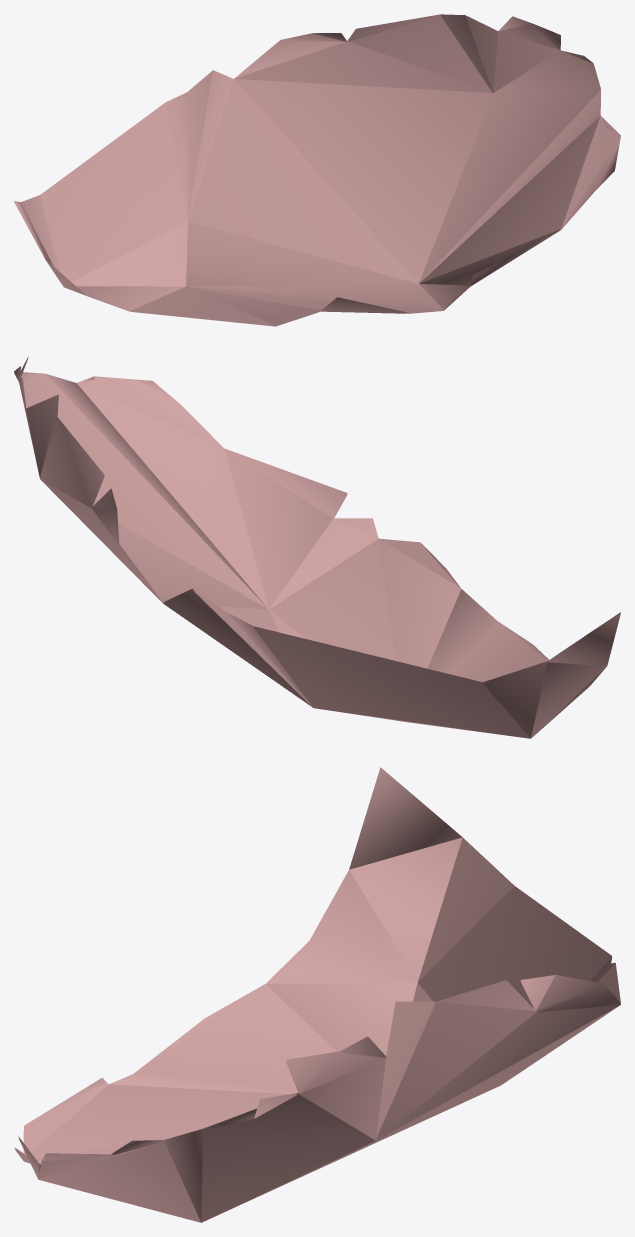
The model's file is huaban.fbx.
The picture shows the model from 3 angles, top to bottom: view 1: azimuth 30°, elevation 25°; view 2: azimuth 150°, elevation 25°; view 3: azimuth 270°, elevation 25°; orthographic projection. The views are drawn at different scales.
Parts seen in each view (by area): view 1: hua_ban, hua_ban1; view 2: hua_ban, hua_ban1; view 3: hua_ban, hua_ban1.
Part boxes in pixels (left/top/right/bottom): hua_ban: left=14, top=14, right=620, bottom=325; hua_ban1: left=14, top=15, right=620, bottom=326; hua_ban: left=14, top=357, right=620, bottom=683; hua_ban1: left=14, top=358, right=620, bottom=738; hua_ban: left=14, top=767, right=620, bottom=1177; hua_ban1: left=14, top=957, right=620, bottom=1222.
Size of the model in its own units: 4.82 by 1.72 by 3.05.
